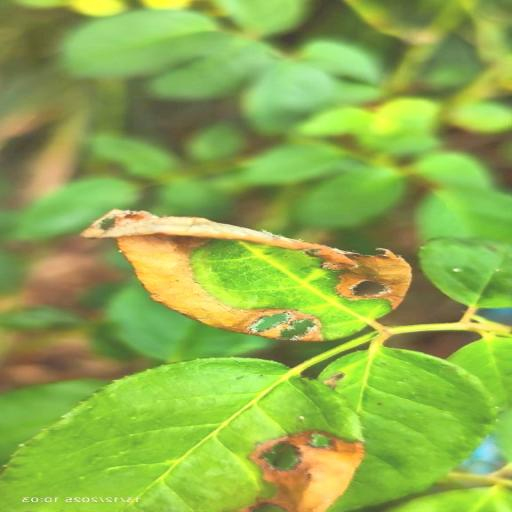healthy_leaf: (319, 347, 493, 512)
thrip: (0, 358, 364, 512), (83, 210, 410, 342)
